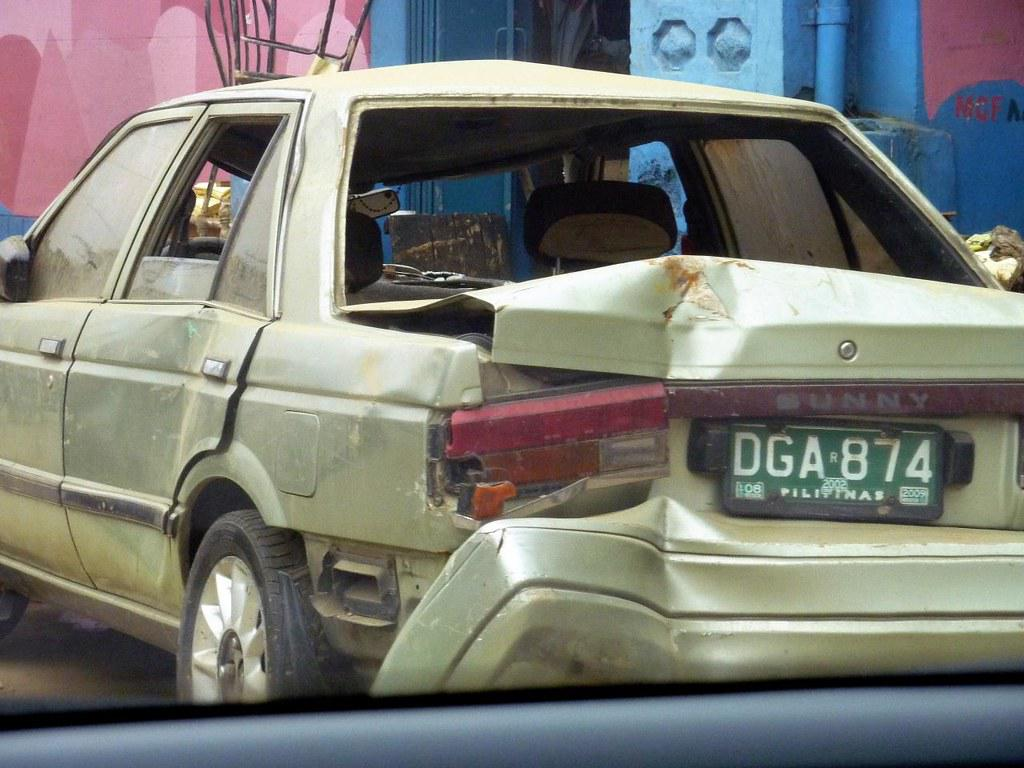Taillight-Damage: (418, 334, 687, 535)
doorouter-dent: (67, 308, 238, 594)
pillar-dent: (274, 82, 364, 332)
rear-bumper-dent: (345, 518, 1023, 719)
